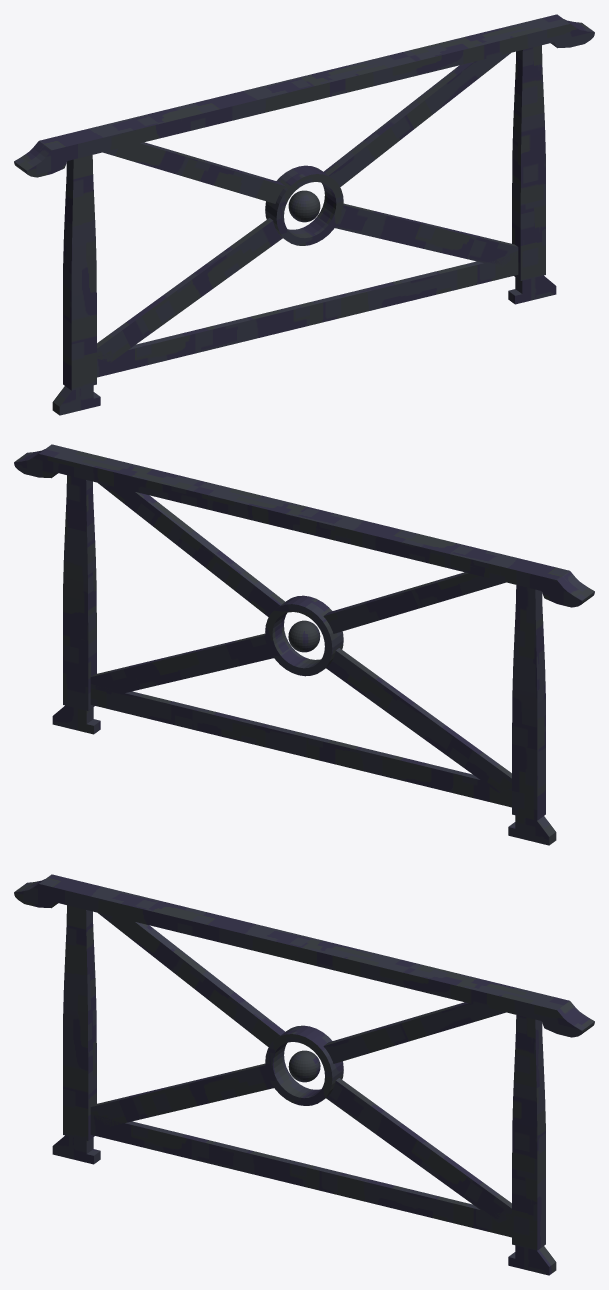
Rendered from Barriere.fbx.
The picture shows the model from 3 angles, top to bottom: view 1: azimuth 30°, elevation 25°; view 2: azimuth 150°, elevation 25°; view 3: azimuth 330°, elevation 25°; orthographic projection.
Parts seen in each view (by area): view 1: Cube.001; view 2: Cube.001; view 3: Cube.001.
Boxes of the visible parts, x1,y1,x2,y2 form: Cube.001: (14,14,594,415); Cube.001: (14,444,594,845); Cube.001: (14,874,594,1275).
Bounding box in the file's own units: 239 × 109 × 11.64.
